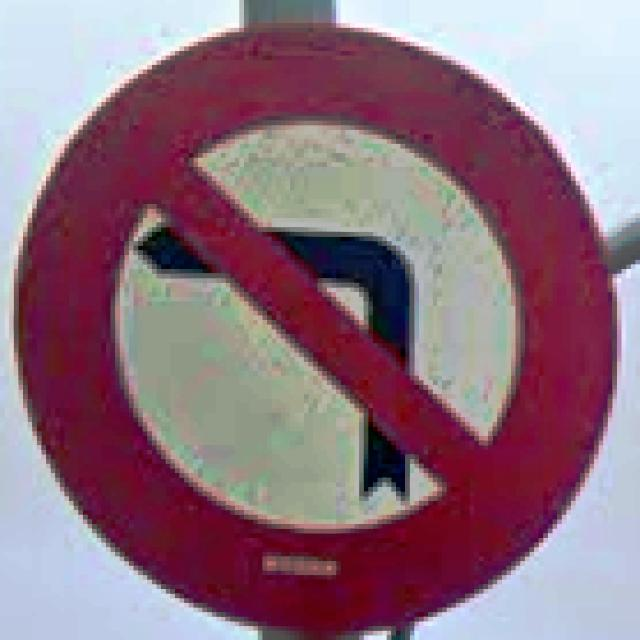noturnleft: (9, 14, 617, 635)
